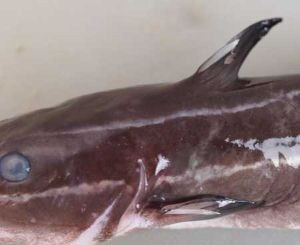gonzui: (2, 10, 300, 241)
